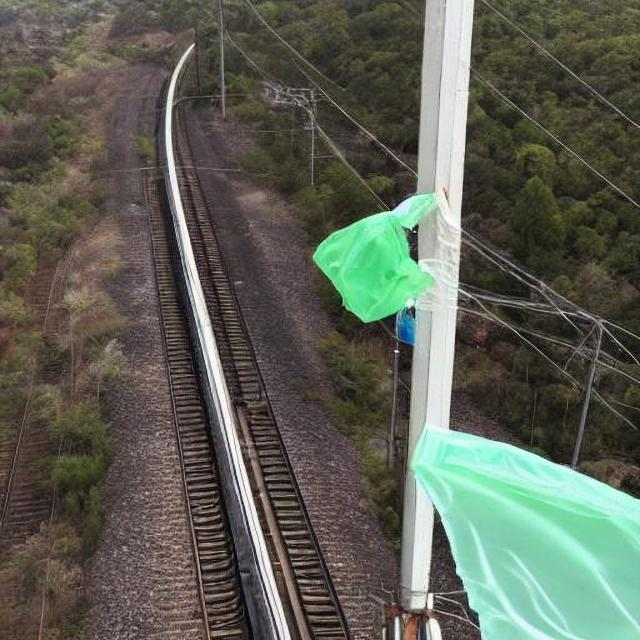plastic bag: (413, 422, 640, 631), (312, 186, 442, 325)
